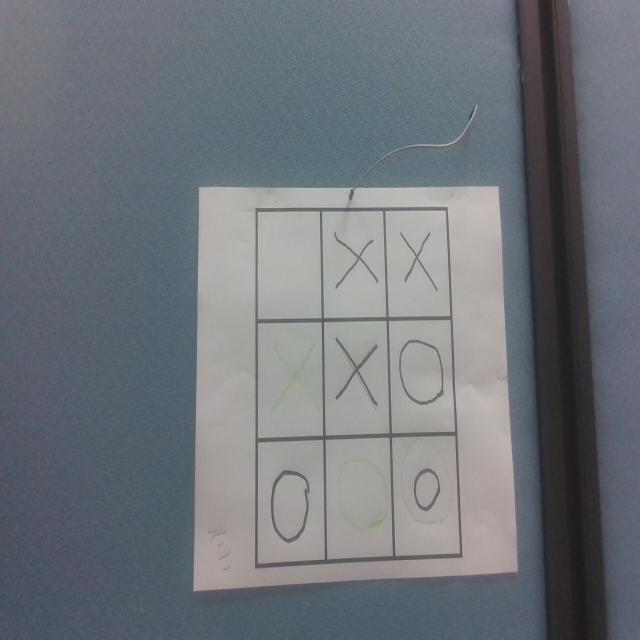null: (258, 211, 321, 322)
o: (337, 456, 390, 531), (399, 339, 445, 406), (270, 468, 311, 542), (413, 467, 441, 512)
table: (259, 196, 463, 570)
x: (270, 321, 320, 416), (336, 338, 378, 409), (333, 233, 379, 292), (400, 229, 438, 293)
